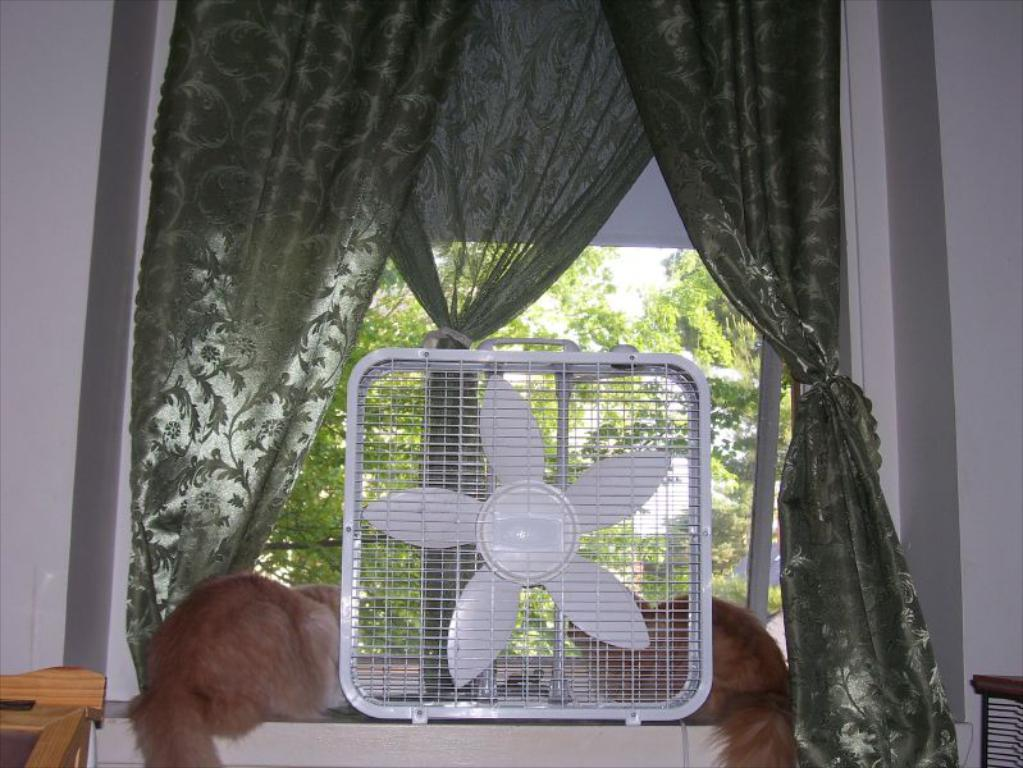Animal: (120, 574, 362, 766), (566, 584, 807, 765)
